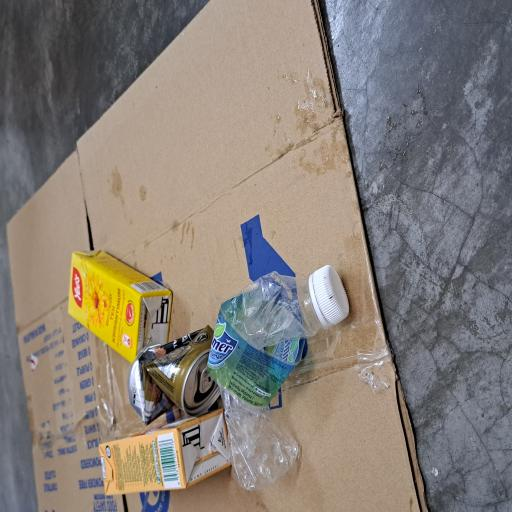can: (66, 171, 142, 293)
cardboard: (0, 3, 384, 512)
drink carton: (112, 91, 197, 232), (12, 133, 79, 308)
plastic bottle: (16, 277, 180, 429)
plastic bottle cap: (138, 418, 186, 467)
pop tab: (89, 266, 110, 284)
